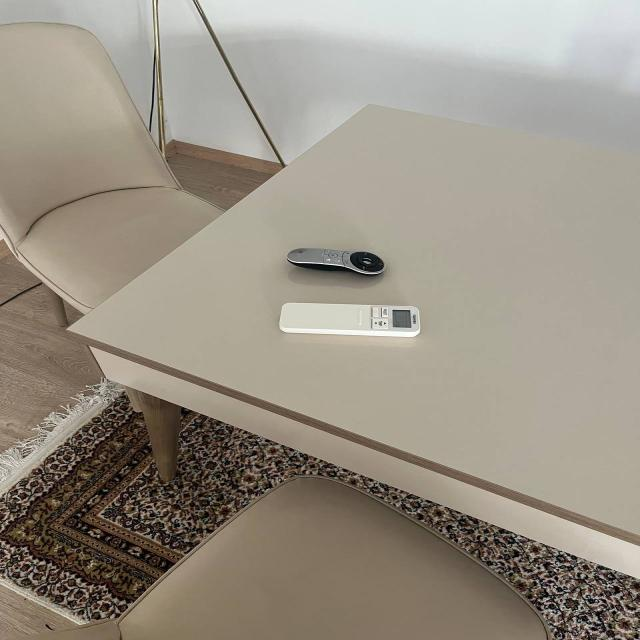remote: (268, 296, 429, 342), (283, 233, 394, 284)
